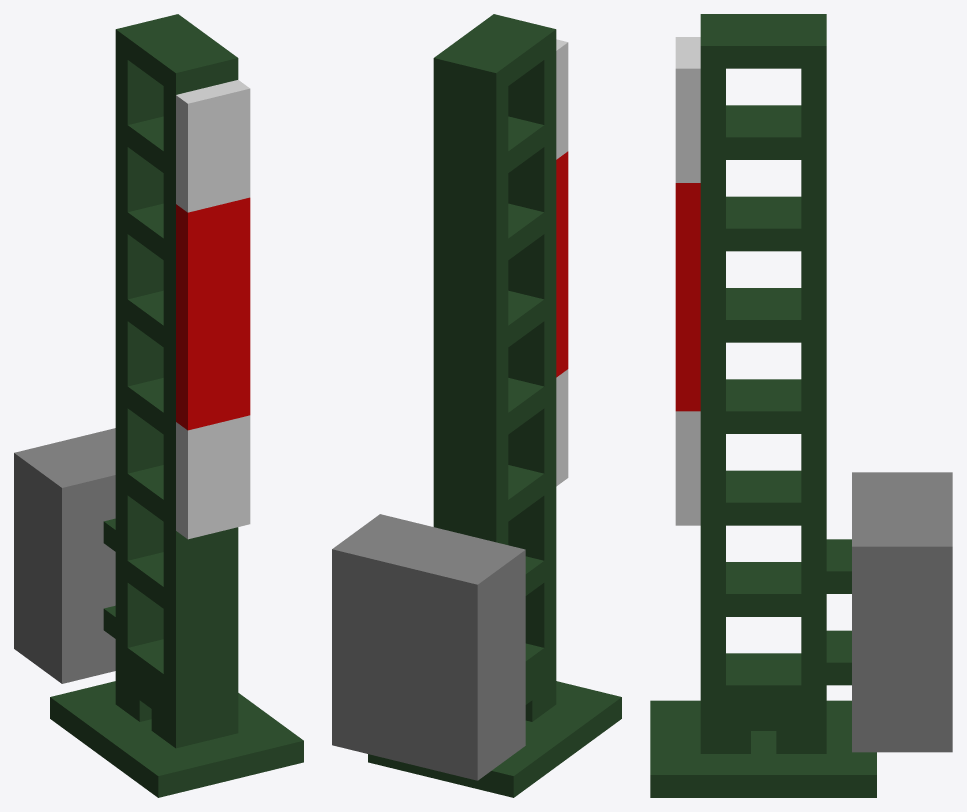
Rendered from hauptsignal_boden.obj.
3 renders of one model, left to right at view 1: azimuth 30°, elevation 25°; view 2: azimuth 150°, elevation 25°; view 3: azimuth 270°, elevation 25°, orthographic. The views are drawn at different scales.
Parts seen in each view (by area): view 1: all; view 2: all; view 3: all.
Boxes of the visible parts, box(x1,y1,x2,y2) form: all: box(14, 14, 303, 797); all: box(332, 14, 621, 797); all: box(650, 14, 952, 797).
Bounding box in the file's own units: 0.7 × 3.2 × 1.2.
1 material, 1 textured.
